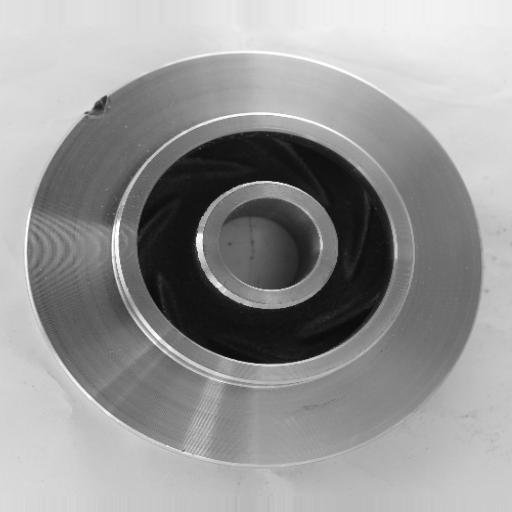crack: (78, 89, 124, 129)
unpolished_casting: (23, 51, 487, 471)
